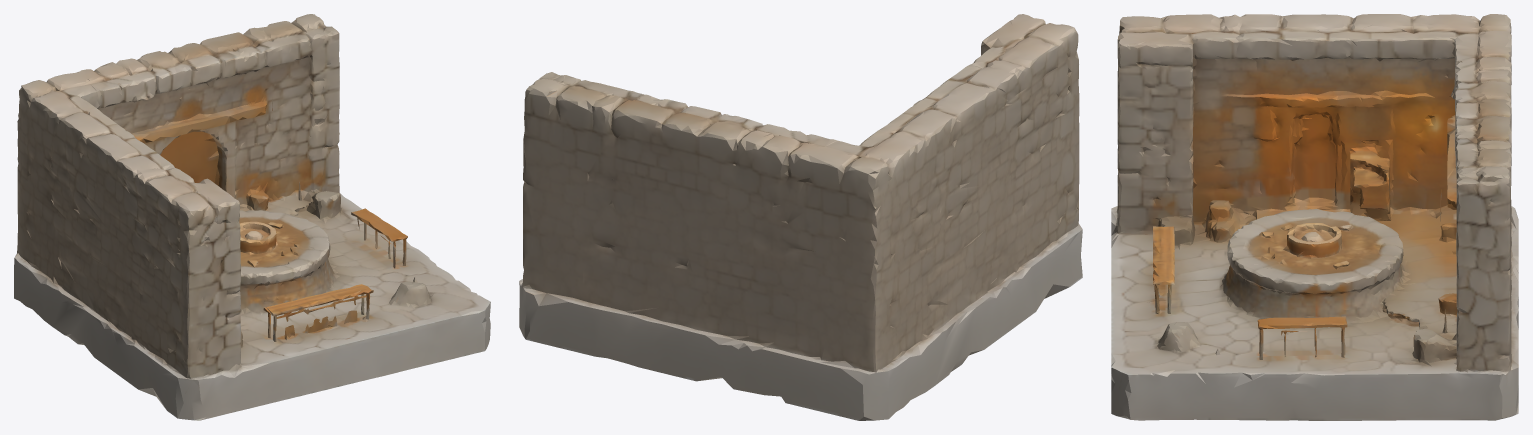
3 views of the same model, side by side, from view 1: azimuth 30°, elevation 25°; view 2: azimuth 150°, elevation 25°; view 3: azimuth 270°, elevation 25° (orthographic). The views are drawn at different scales.
Parts seen in each view (by area): view 1: 037; view 2: 037; view 3: 037.
Part boxes in pixels (x1,y1,x2,y2): 037: [14, 14, 490, 420]; 037: [519, 14, 1082, 420]; 037: [1111, 14, 1518, 420].
Size of the model in its own units: 1.9 by 1.22 by 1.88.
1 material, 1 textured.
